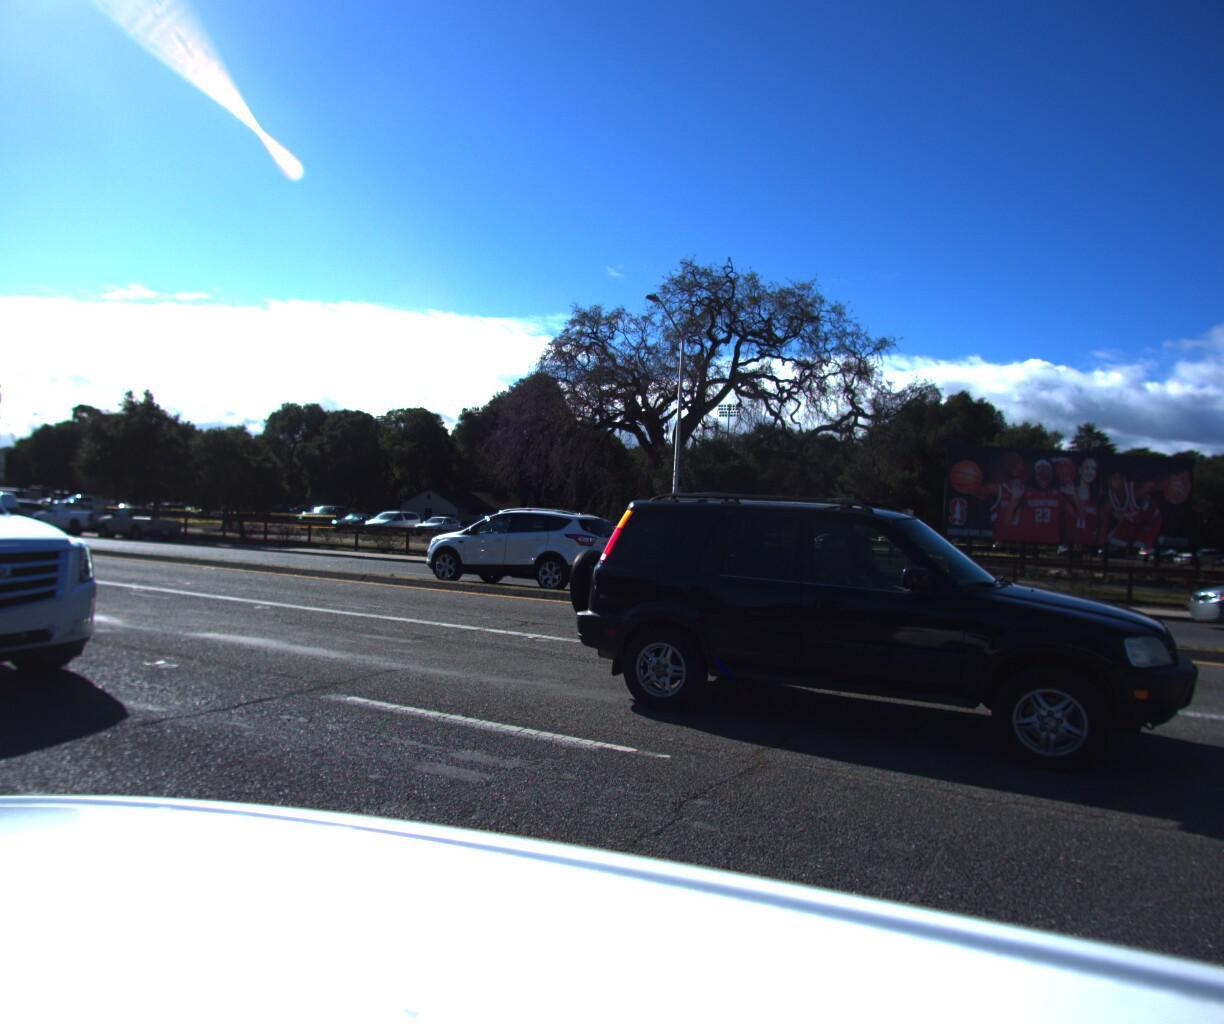car: (538, 475, 1221, 800), (0, 416, 126, 748), (413, 496, 636, 591), (1176, 541, 1224, 656), (24, 492, 133, 537), (90, 497, 189, 540)
